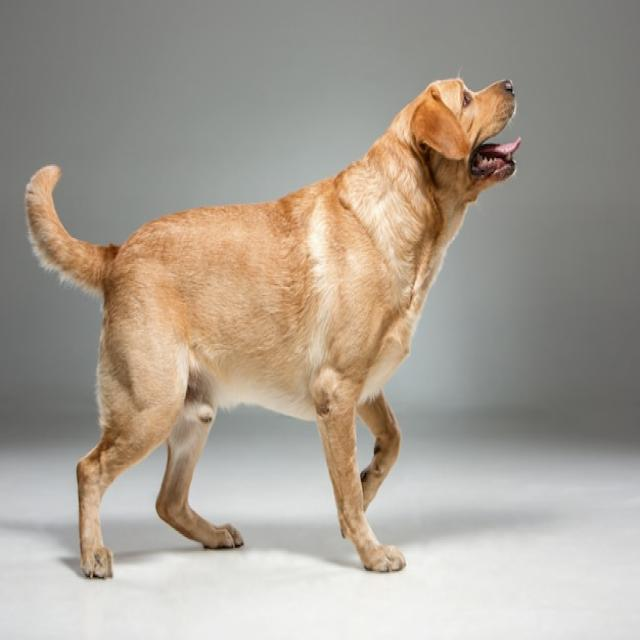Dog: (26, 75, 522, 583)
